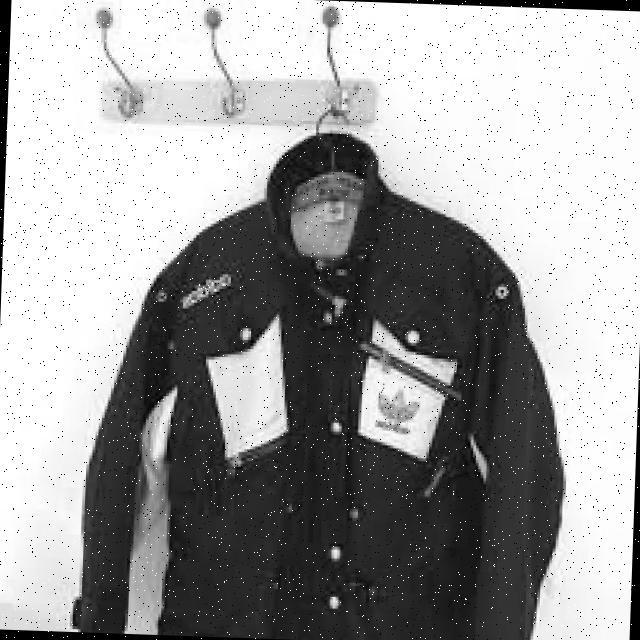Adidas: (372, 383, 426, 438)
